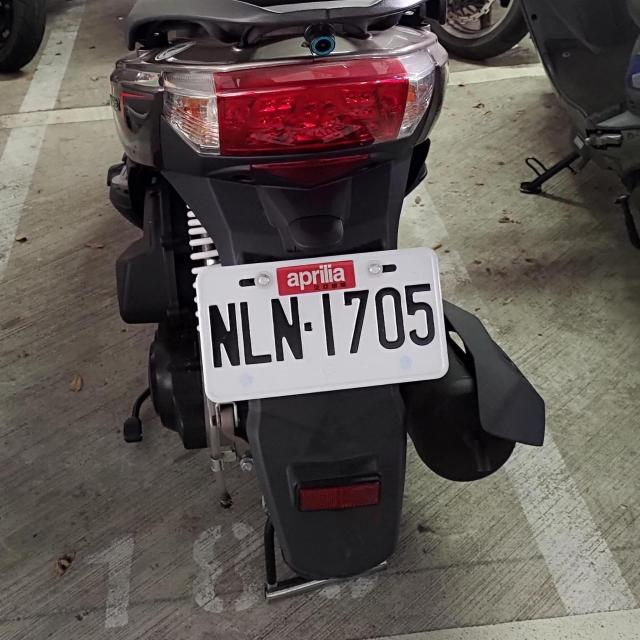W: (192, 247, 451, 397)
